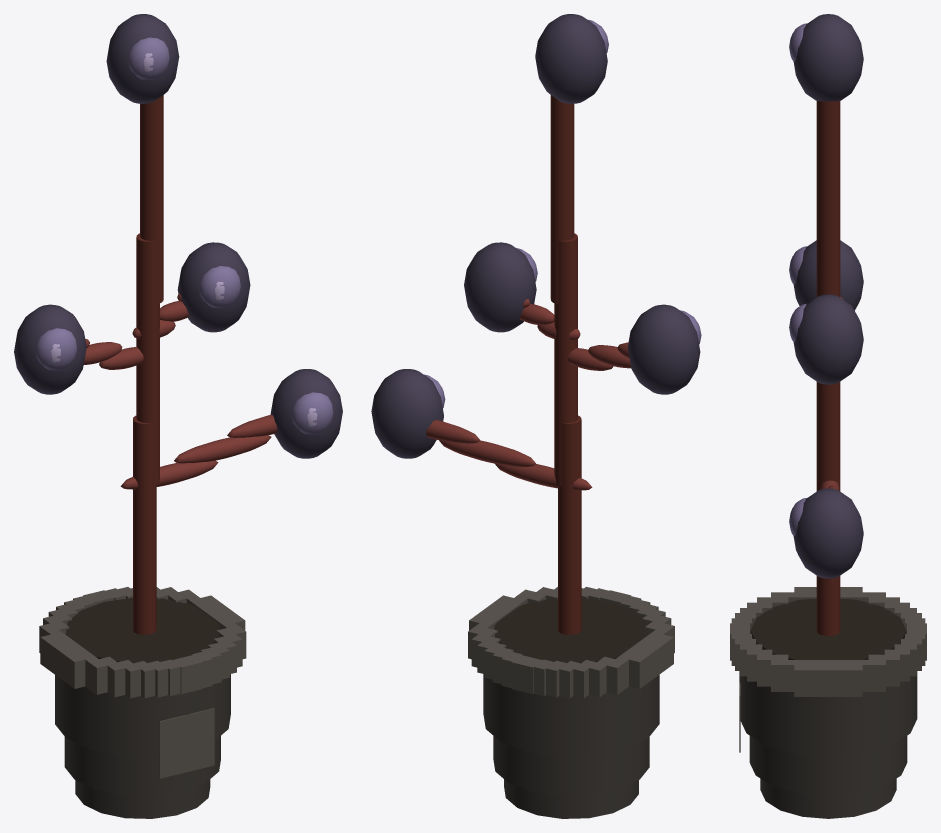
The model's file is CMU3DPottedPlant7.glb.
3 views of the same model, side by side, from view 1: azimuth 30°, elevation 25°; view 2: azimuth 150°, elevation 25°; view 3: azimuth 270°, elevation 25° (orthographic).
Visible parts, largest first — view 1: branch (×8), purple bud shell (×4), upper pot wall, recessed soil, lilac bud interior (×4), lower tapered pot wall, hollow curved planter rim (×4), pot front highlight, narrow pot foot; view 2: purple bud shell (×4), branch (×8), upper pot wall, recessed soil, lower tapered pot wall, hollow curved planter rim (×4), narrow pot foot; view 3: purple bud shell (×4), upper pot wall, branch (×3), recessed soil, hollow curved planter rim (×7), lower tapered pot wall, narrow pot foot.
Part boxes in pixels (<box>): branch (×8): <box>83,95,277,634</box>; purple bud shell (×4): <box>14,14,342,458</box>; upper pot wall: <box>55,674,230,756</box>; recessed soil: <box>65,598,219,663</box>; lilac bud interior (×4): <box>35,37,333,434</box>; lower tapered pot wall: <box>64,736,220,795</box>; hollow curved planter rim (×4): <box>39,589,246,697</box>; pot front highlight: <box>159,708,214,778</box>; narrow pot foot: <box>75,779,210,818</box>; purple bud shell (×4): <box>371,14,700,458</box>; branch (×8): <box>426,95,631,634</box>; upper pot wall: <box>483,674,659,756</box>; recessed soil: <box>494,598,648,663</box>; lower tapered pot wall: <box>493,736,649,795</box>; hollow curved planter rim (×4): <box>468,589,674,697</box>; narrow pot foot: <box>504,779,638,818</box>; purple bud shell (×4): <box>793,14,863,578</box>; upper pot wall: <box>739,637,917,756</box>; branch (×3): <box>816,101,840,636</box>; recessed soil: <box>750,599,906,659</box>; hollow curved planter rim (×7): <box>747,592,909,696</box>; lower tapered pot wall: <box>749,736,907,795</box>; narrow pot foot: <box>760,778,896,818</box>.
Size of the model in its own units: 0.45 by 1.04 by 0.2395.
